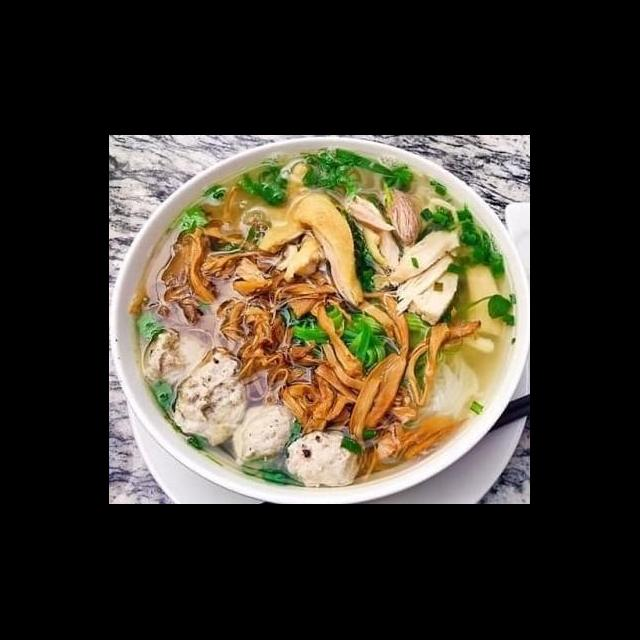bun: (420, 348, 484, 424)
bun moc: (122, 156, 530, 497)
thit ga: (284, 188, 368, 310), (380, 223, 466, 329), (339, 192, 404, 274)
vien moc: (168, 344, 252, 450), (224, 398, 306, 469), (282, 428, 363, 494), (138, 324, 218, 386)
